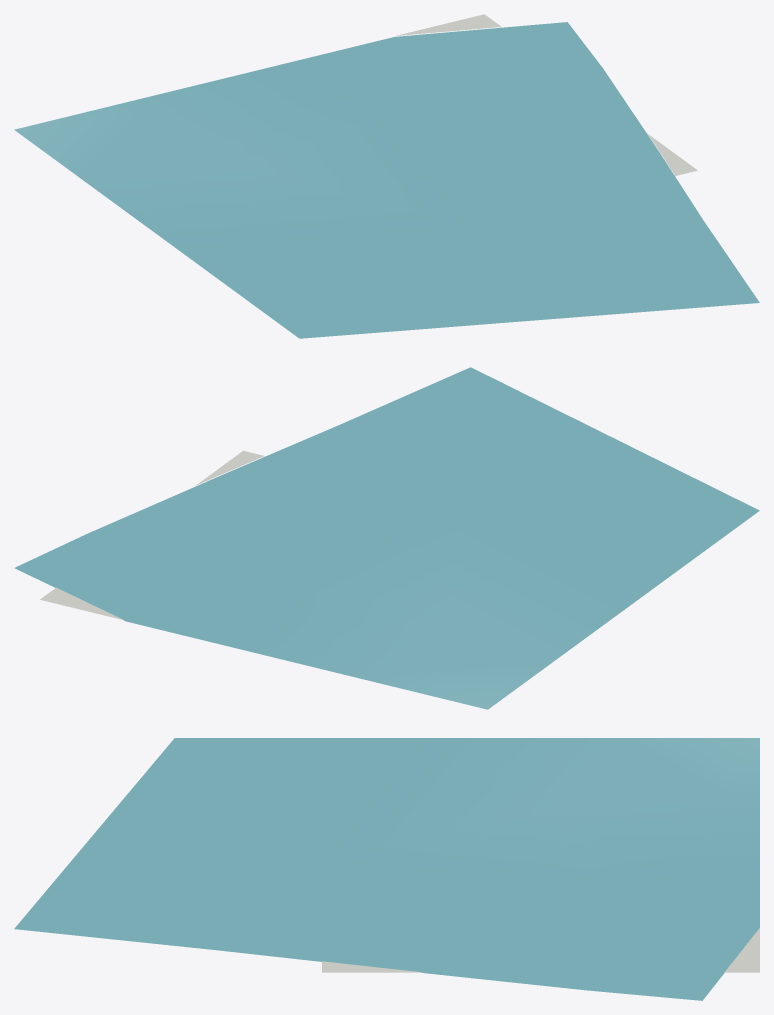
The picture shows the model from 3 angles, top to bottom: view 1: azimuth 30°, elevation 25°; view 2: azimuth 150°, elevation 25°; view 3: azimuth 270°, elevation 25°; orthographic projection. The views are drawn at different scales.
Parts seen in each view (by area): view 1: city; view 2: city; view 3: city.
Part boxes in pixels (left/top/right/bottom): city: left=14, top=14, right=759, bottom=338; city: left=14, top=367, right=759, bottom=709; city: left=14, top=738, right=759, bottom=1000.
Bounding box in the file's own units: 134 × 0.18 × 161.
